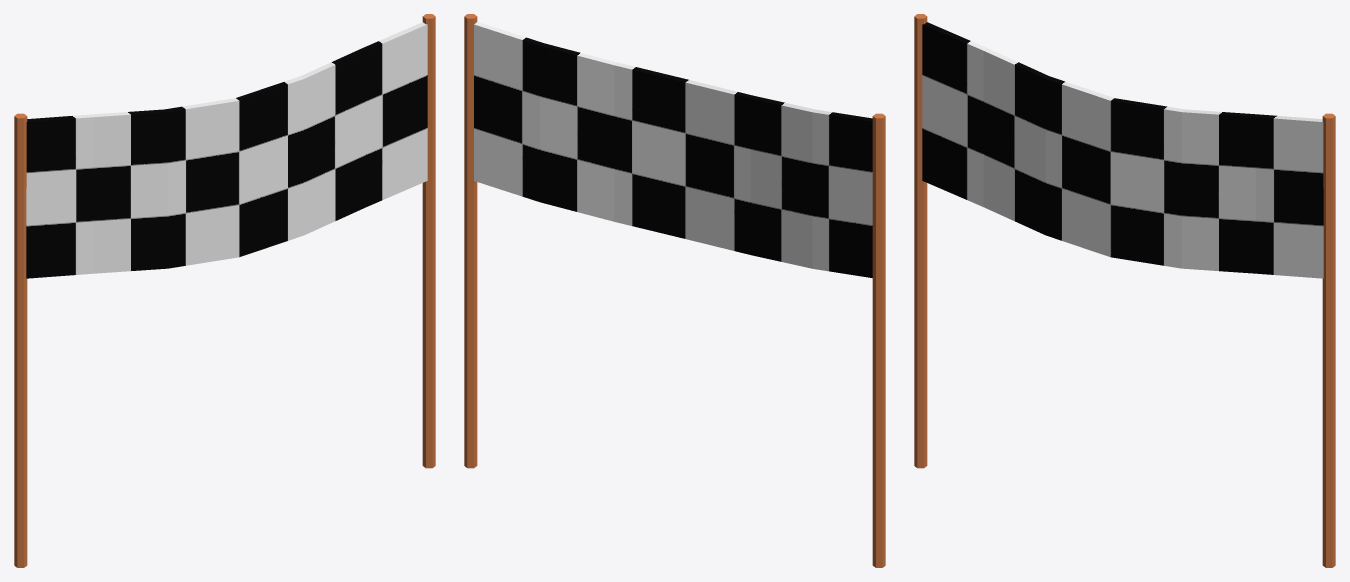
File: Finish_flag.fbx
3 views of the same model, side by side, from view 1: azimuth 30°, elevation 25°; view 2: azimuth 150°, elevation 25°; view 3: azimuth 330°, elevation 25° (orthographic).
Visible parts, largest first — view 1: Finish; view 2: Finish; view 3: Finish.
Part boxes in pixels (left/top/right/bottom): Finish: left=14, top=14, right=435, bottom=567; Finish: left=464, top=14, right=885, bottom=567; Finish: left=914, top=14, right=1335, bottom=567.
Bounding box in the file's own units: 526 × 540 × 38.27.
